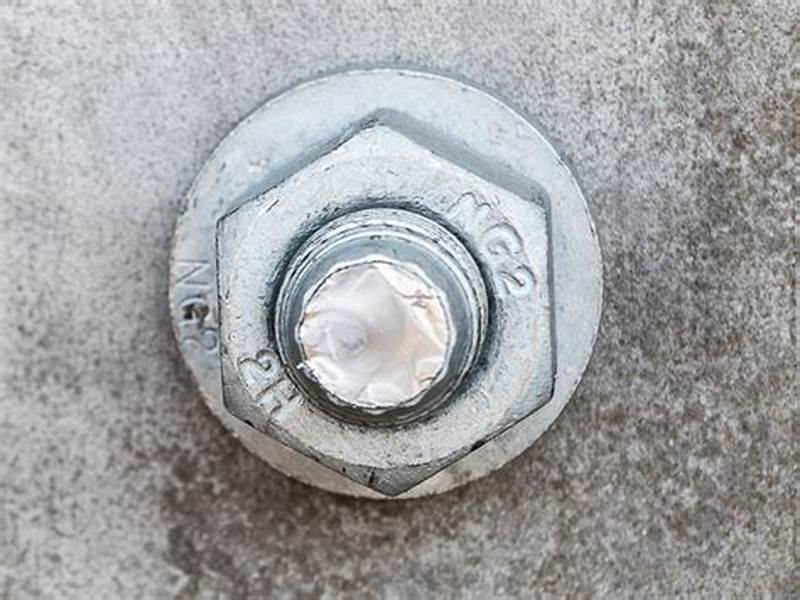bolt_b: (213, 103, 559, 500)
